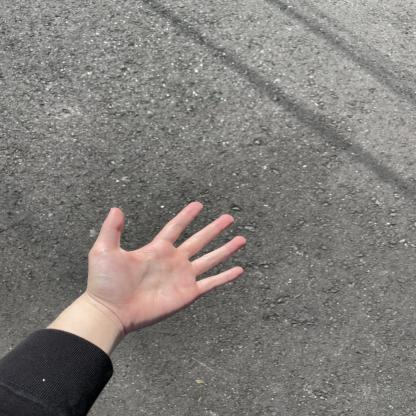bare_hand: (72, 190, 266, 335)
